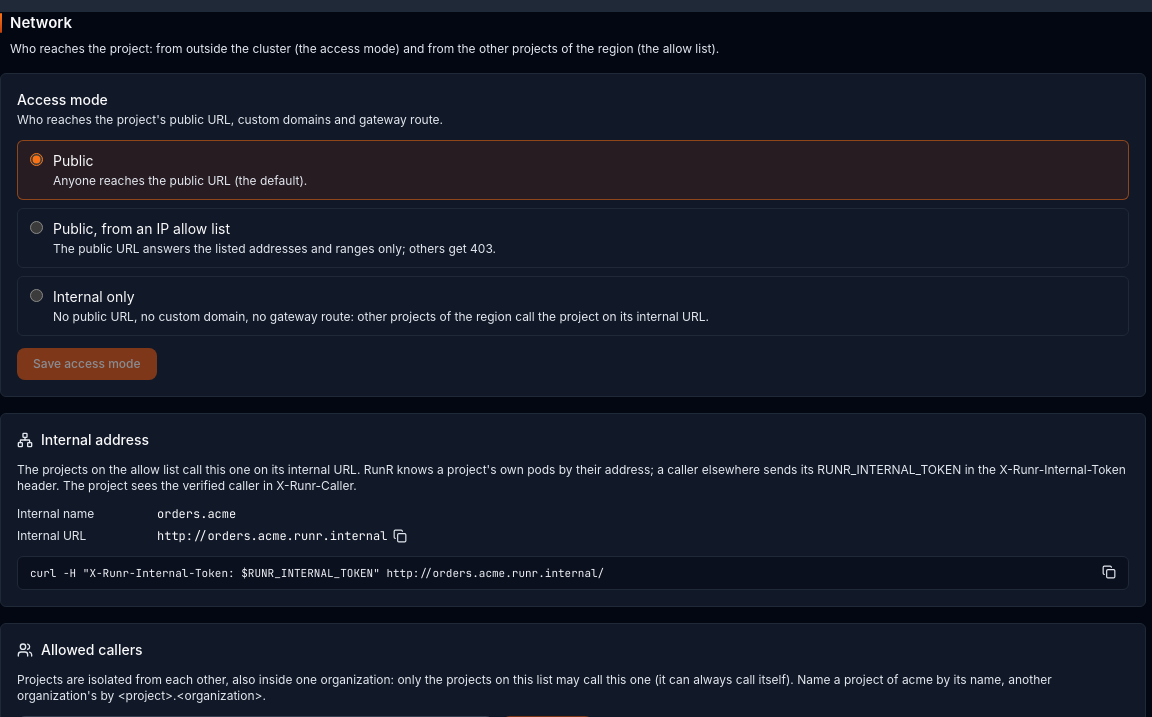
Test: Project → Network › shows the API's validation message
The width and height of the screenshot is (1152, 717).
Click the radio button with test id "network-mode-internal".
click(36, 295)  # box [30, 288, 43, 302]
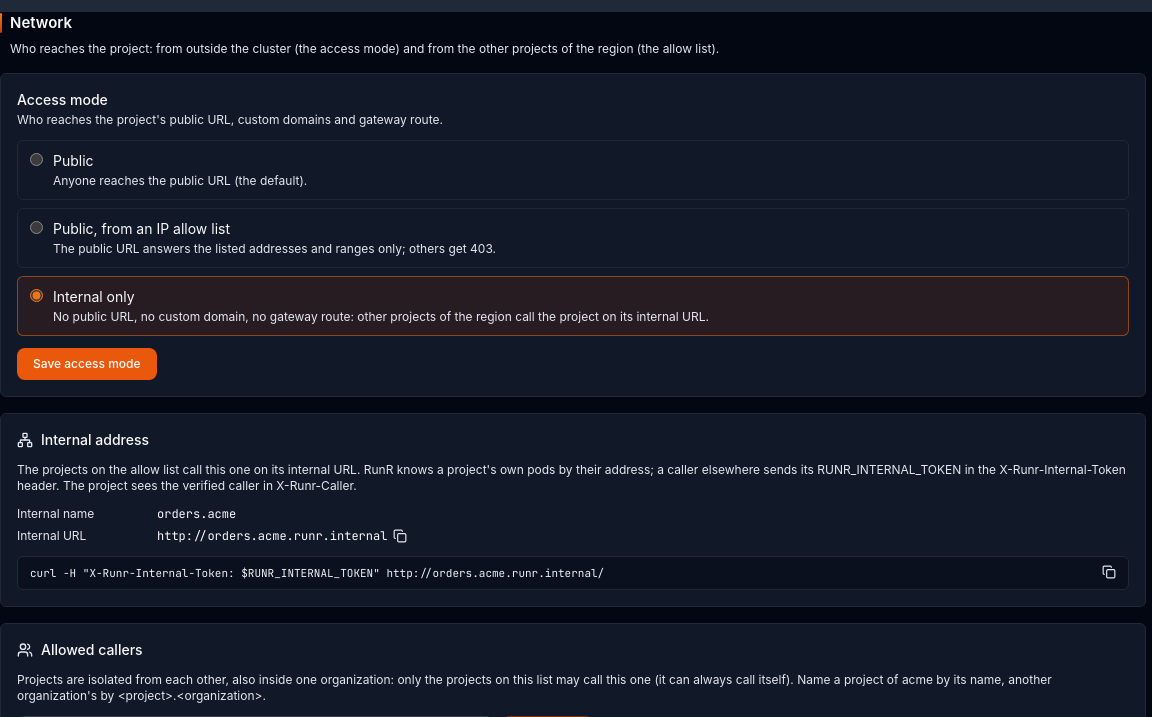
Click the button with test id "network-save".
click(87, 364)  # box [17, 348, 156, 380]
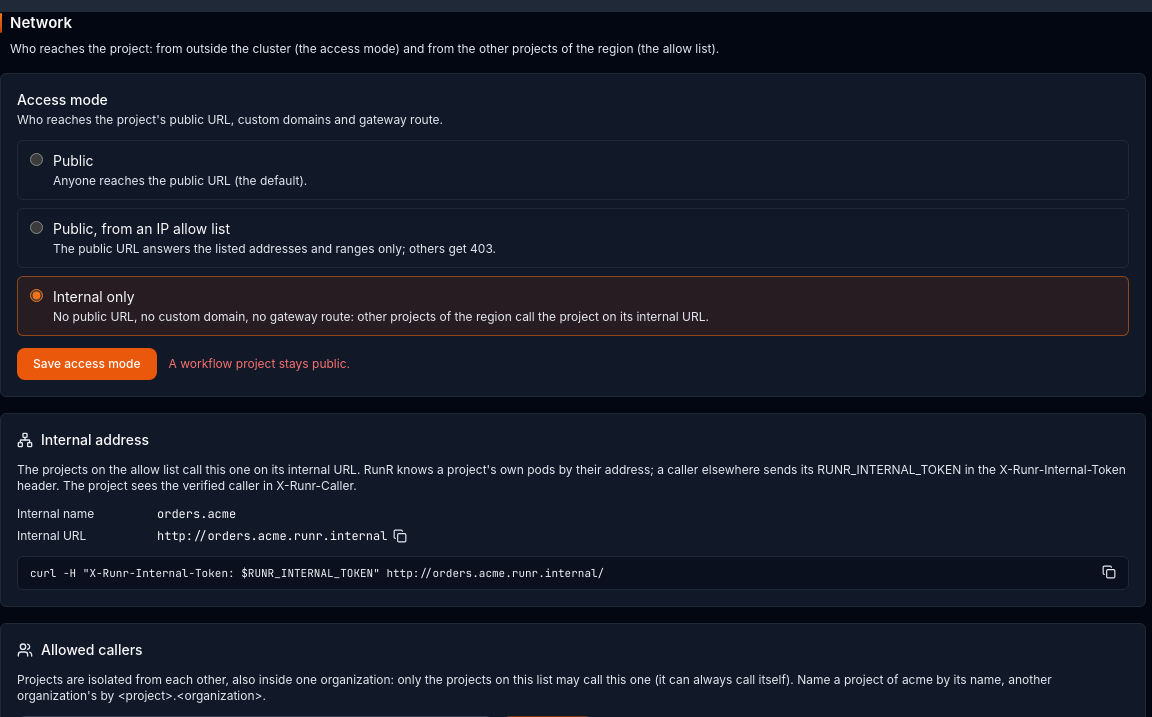
Check: the text with test id "network-save-error" reads "A workflow project stays public.", box [168, 356, 350, 370]
